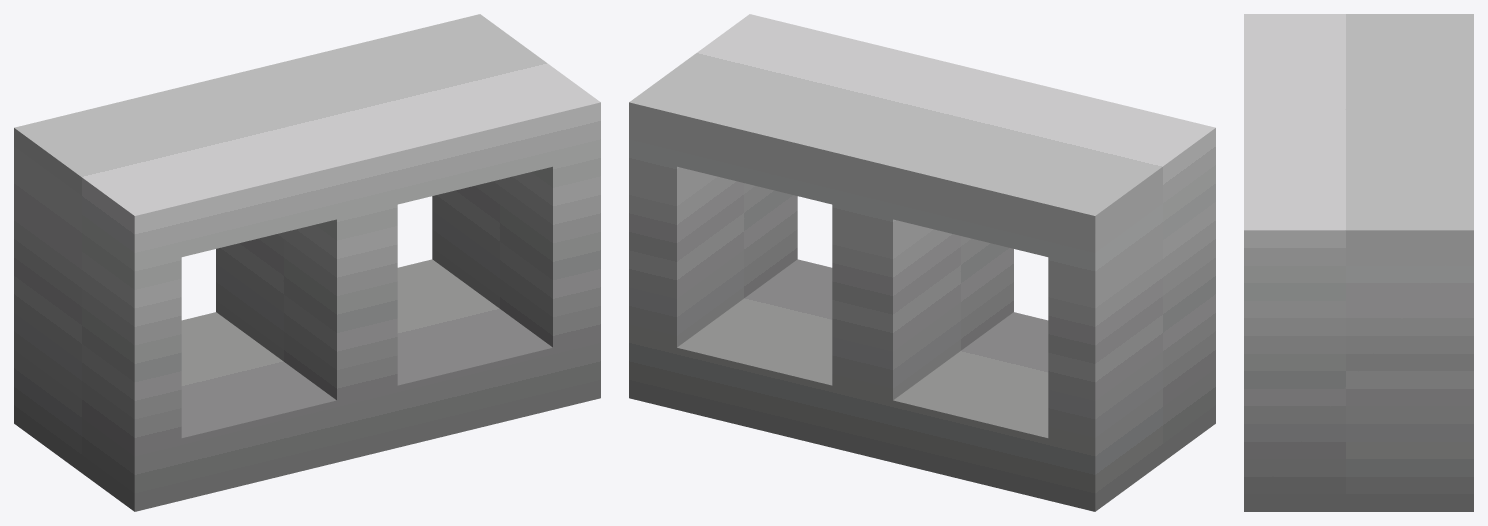
File: Cinderblock.obj
3 views of the same model, side by side, from view 1: azimuth 30°, elevation 25°; view 2: azimuth 150°, elevation 25°; view 3: azimuth 270°, elevation 25° (orthographic). The views are drawn at different scales.
Visible parts, largest first — view 1: Cinderblock; view 2: Cinderblock; view 3: Cinderblock.
Part boxes in pixels (x1,y1,x2,y2): Cinderblock: [14, 14, 600, 511]; Cinderblock: [629, 14, 1215, 511]; Cinderblock: [1244, 14, 1473, 511].
Size of the model in its own units: 2.42 by 1.47 by 1.09.
1 material, 1 textured.
